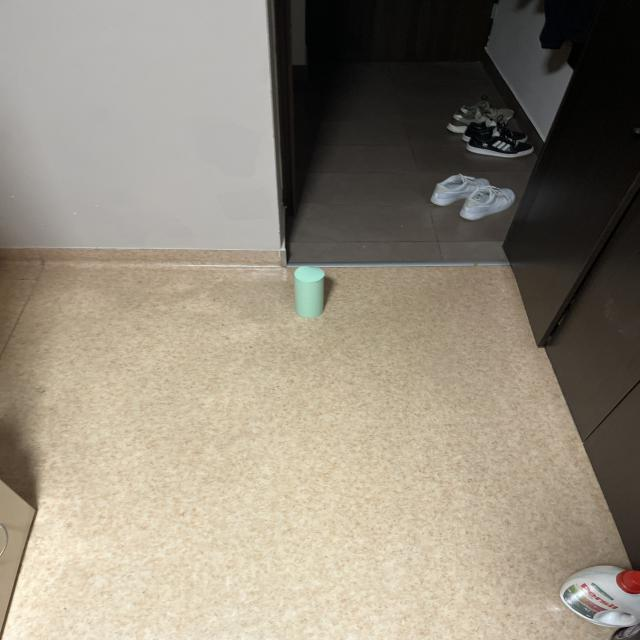meta: (294, 266, 324, 317)
